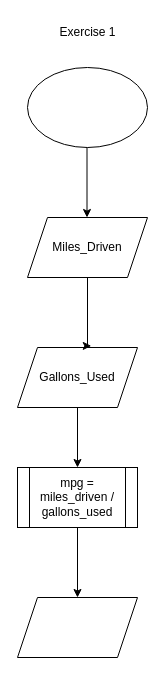
This 165x675 diagram has some shape labels left out. Each missing label, with the box of its shape:
DISPLAY mpg: (16, 596, 138, 658)
Start: (26, 66, 148, 148)
